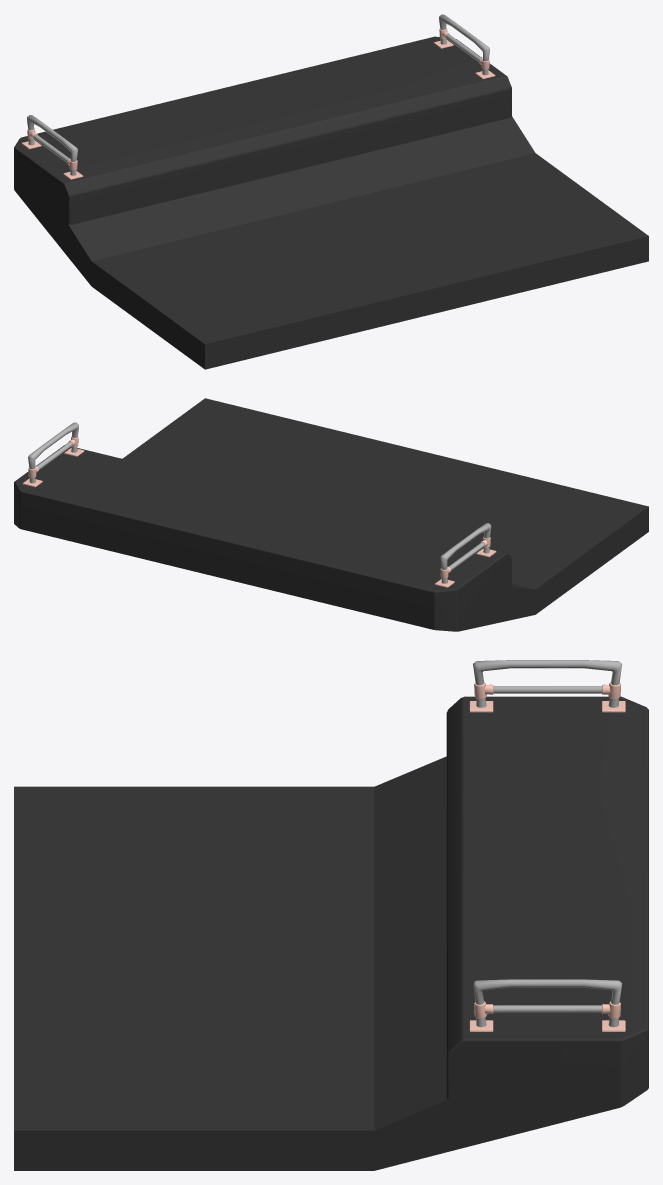
File: sideplatform_002.fbx
3 renders of one model, top to bottom at view 1: azimuth 30°, elevation 25°; view 2: azimuth 150°, elevation 25°; view 3: azimuth 270°, elevation 25°, orthographic. The views are drawn at different scales.
Visible parts, largest first — view 1: sideplatform_002; view 2: sideplatform_002; view 3: sideplatform_002.
Boxes of the visible parts, x1,y1,x2,y2 form: sideplatform_002: [14, 14, 648, 369]; sideplatform_002: [14, 398, 648, 631]; sideplatform_002: [14, 660, 648, 1170].
Size of the model in its own units: 1230 by 959 by 298.
